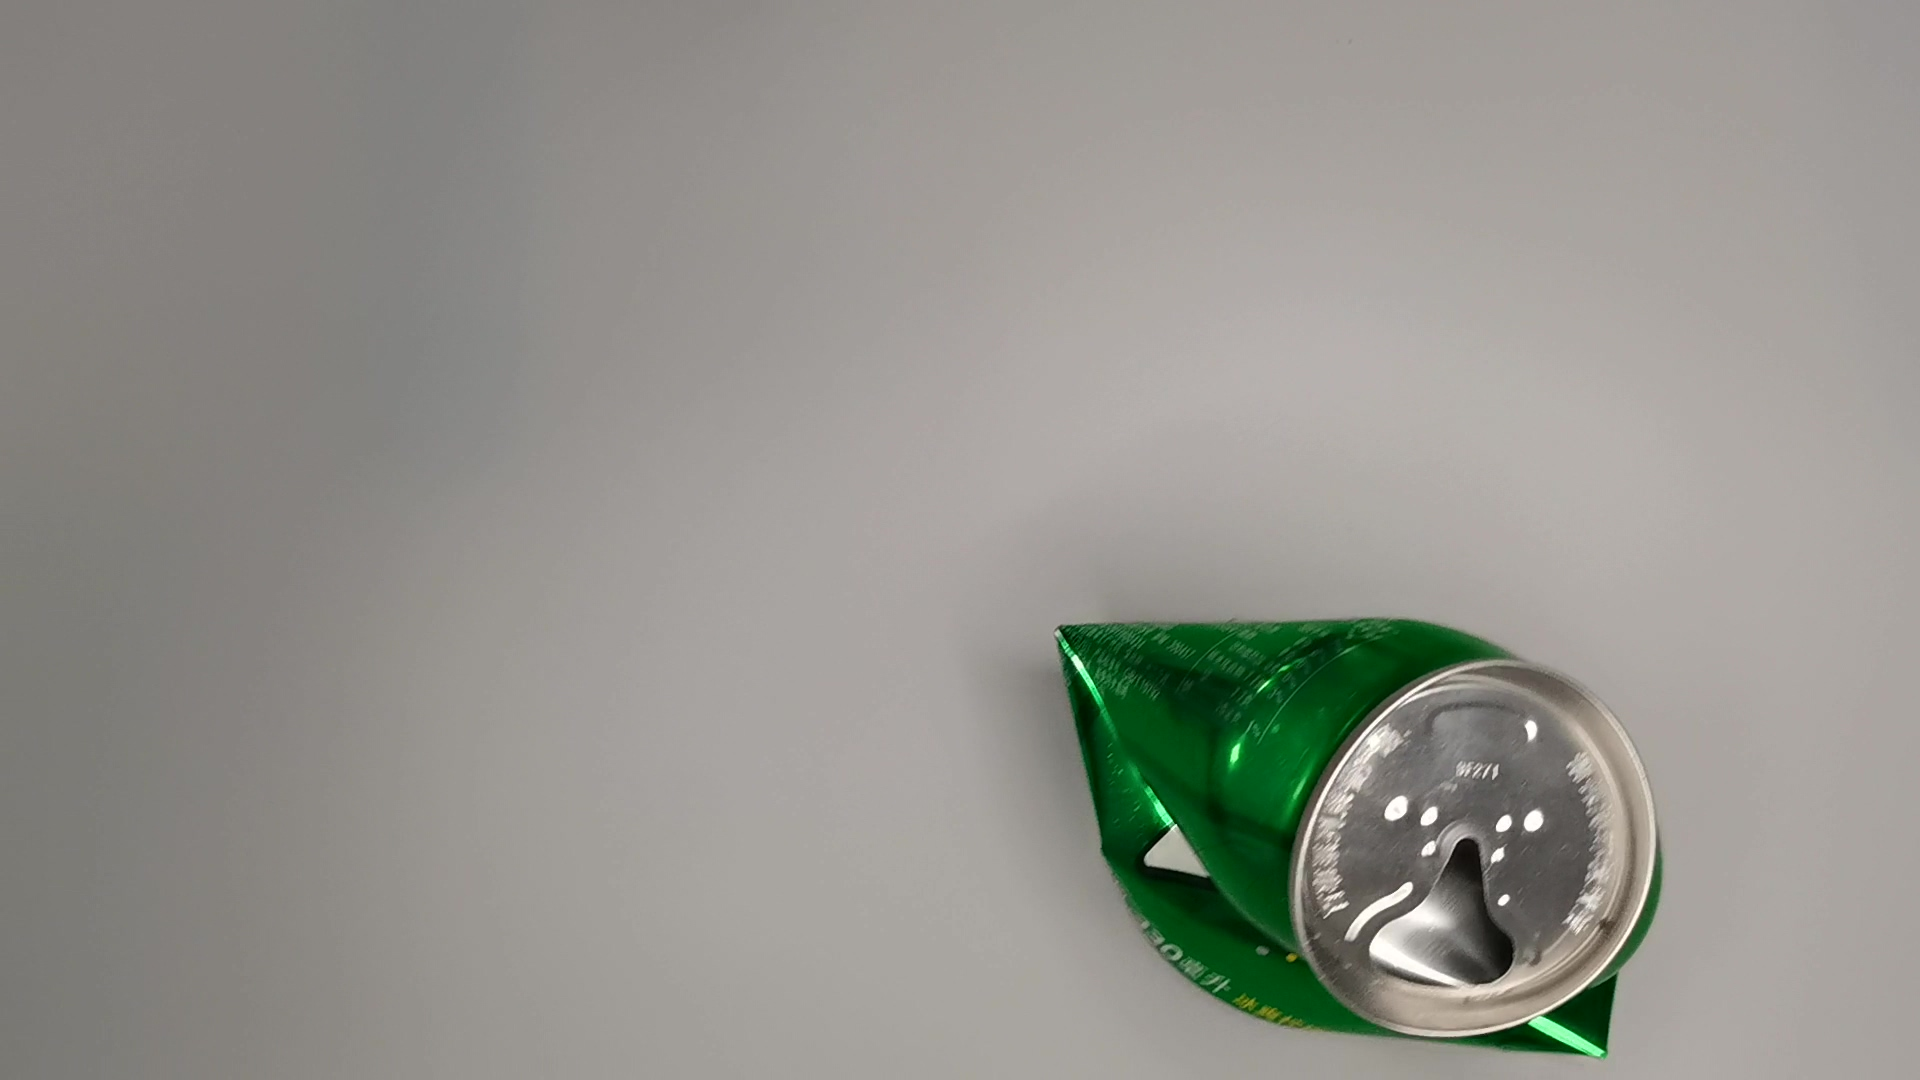can: (1040, 595, 1677, 1060)
